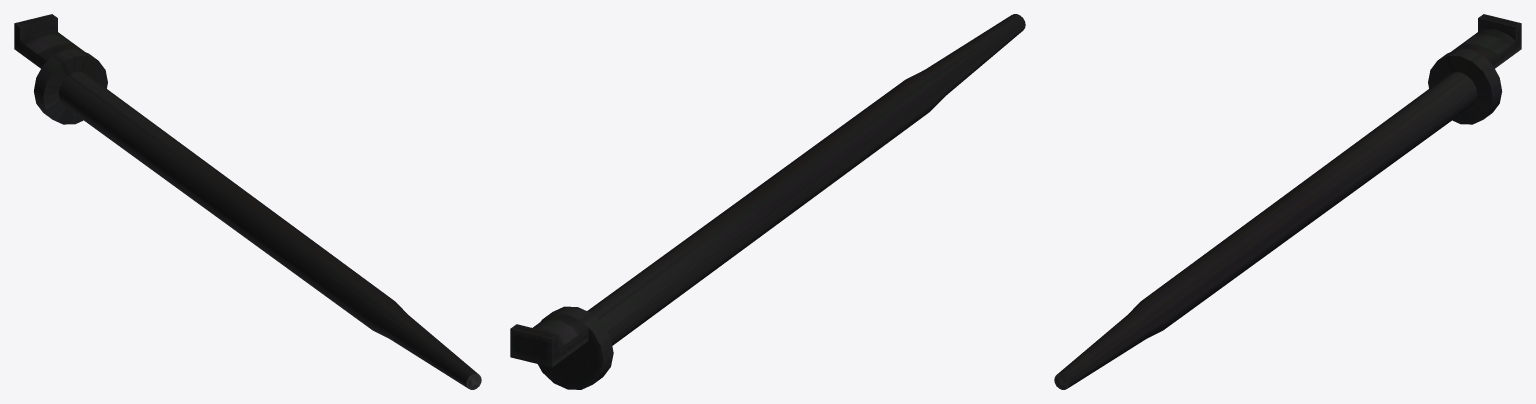
The model's file is FN57firingpin.fbx.
3 views of the same model, side by side, from view 1: azimuth 30°, elevation 25°; view 2: azimuth 150°, elevation 25°; view 3: azimuth 330°, elevation 25° (orthographic). The views are drawn at different scales.
Parts seen in each view (by area): view 1: Firing Pin; view 2: Firing Pin; view 3: Firing Pin.
Boxes of the visible parts, x1,y1,x2,y2 form: Firing Pin: (14,14,481,389); Firing Pin: (510,14,1025,389); Firing Pin: (1054,14,1521,389).
Bounding box in the file's own units: 0.5063 × 0.556 × 5.96.
